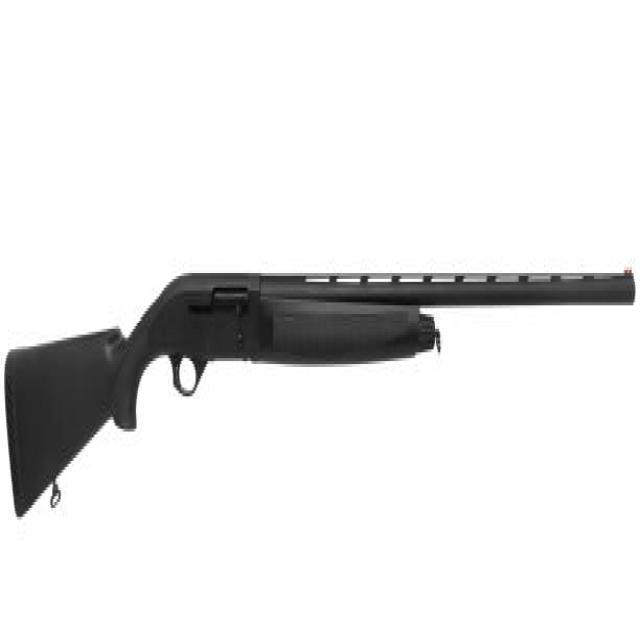rifle: (1, 256, 639, 543)
